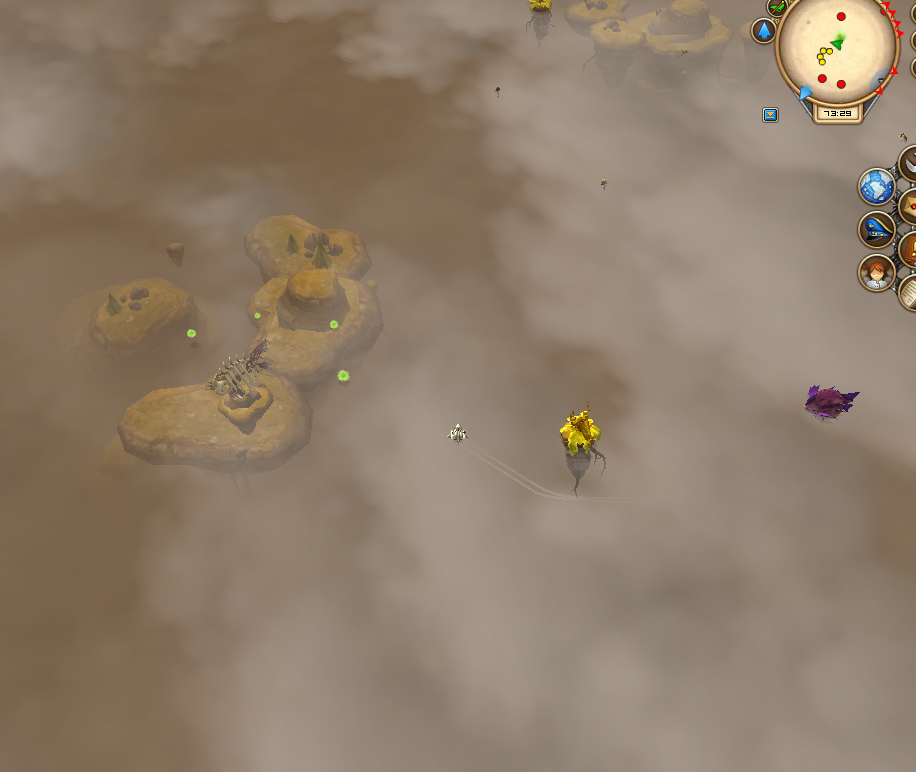dandelion-empty: (555, 403, 612, 488), (527, 0, 555, 36)
fluff: (333, 365, 354, 386), (181, 324, 201, 342), (325, 315, 342, 333), (250, 308, 265, 324)
